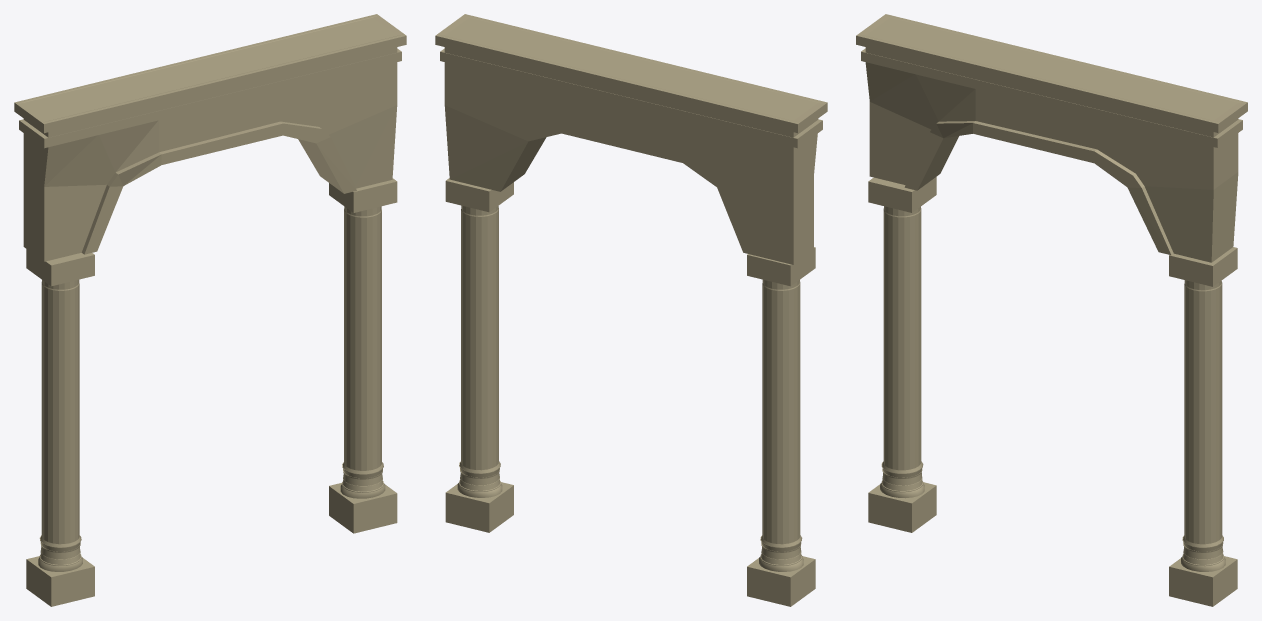
Rendered from PillarArch.fbx.
3 renders of one model, left to right at view 1: azimuth 30°, elevation 25°; view 2: azimuth 150°, elevation 25°; view 3: azimuth 330°, elevation 25°, orthographic.
Parts seen in each view (by area): view 1: pCube6, PillarArch, Pillar2, pCube1 (×2), pCube3 (×2); view 2: pCube6, PillarArch, Pillar2, pCube1 (×2), pCube3 (×2); view 3: pCube6, PillarArch, Pillar2, pCube1 (×2), pCube3 (×2).
Part boxes in pixels (left/top/right/bottom): pCube6: left=14, top=14, right=406, bottom=261; PillarArch: left=38, top=279, right=82, bottom=571; Pillar2: left=340, top=206, right=385, bottom=498; pCube1 (×2): left=26, top=483, right=397, bottom=606; pCube3 (×2): left=26, top=178, right=397, bottom=286; pCube6: left=435, top=14, right=827, bottom=264; PillarArch: left=759, top=279, right=803, bottom=571; Pillar2: left=457, top=205, right=502, bottom=497; pCube1 (×2): left=445, top=482, right=815, bottom=606; pCube3 (×2): left=445, top=178, right=815, bottom=286; pCube6: left=856, top=14, right=1247, bottom=262; PillarArch: left=880, top=206, right=924, bottom=498; Pillar2: left=1181, top=280, right=1225, bottom=571; pCube1 (×2): left=868, top=482, right=1237, bottom=606; pCube3 (×2): left=868, top=177, right=1237, bottom=286.
Size of the model in its own units: 20.58 by 26.4 by 2.94.
